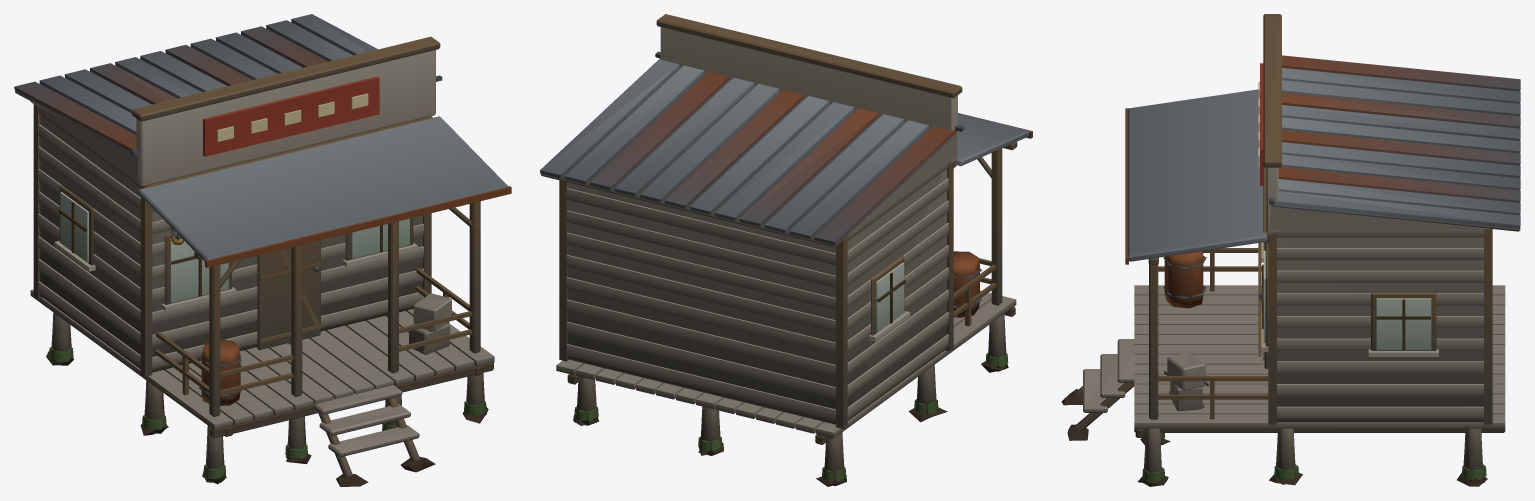
The model's file is general-store.glb.
3 views of the same model, side by side, from view 1: azimuth 30°, elevation 25°; view 2: azimuth 150°, elevation 25°; view 3: azimuth 270°, elevation 25° (orthographic).
Parts seen in each view (by area): view 1: general_store; view 2: general_store; view 3: general_store.
Part boxes in pixels (<box>): general_store: <box>14,14,511,486</box>; general_store: <box>540,14,1032,486</box>; general_store: <box>1061,14,1520,486</box>.
Size of the model in its own units: 4.6 by 4.72 by 5.87.
